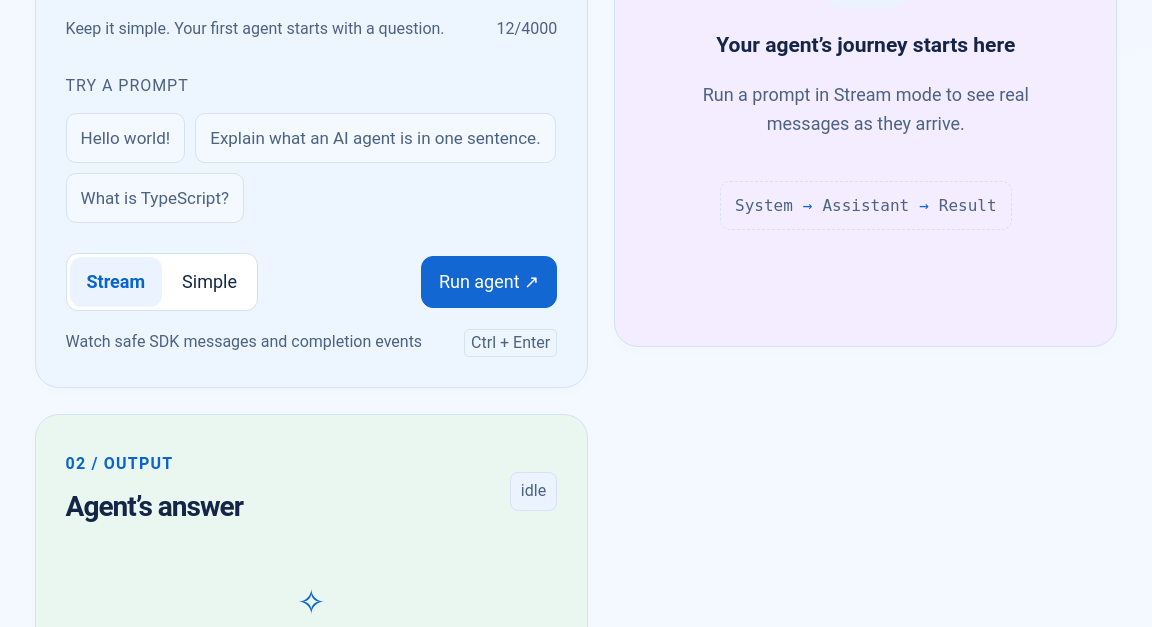
React agent playground › uses Simple mode and preserves the lab when navigating to all 16 UML explanations
Later steps or results of the test are not shown.
(page scrolled)
Step 1. Click the button "Simple" → (210, 282), box [165, 257, 254, 307]
(page scrolled)
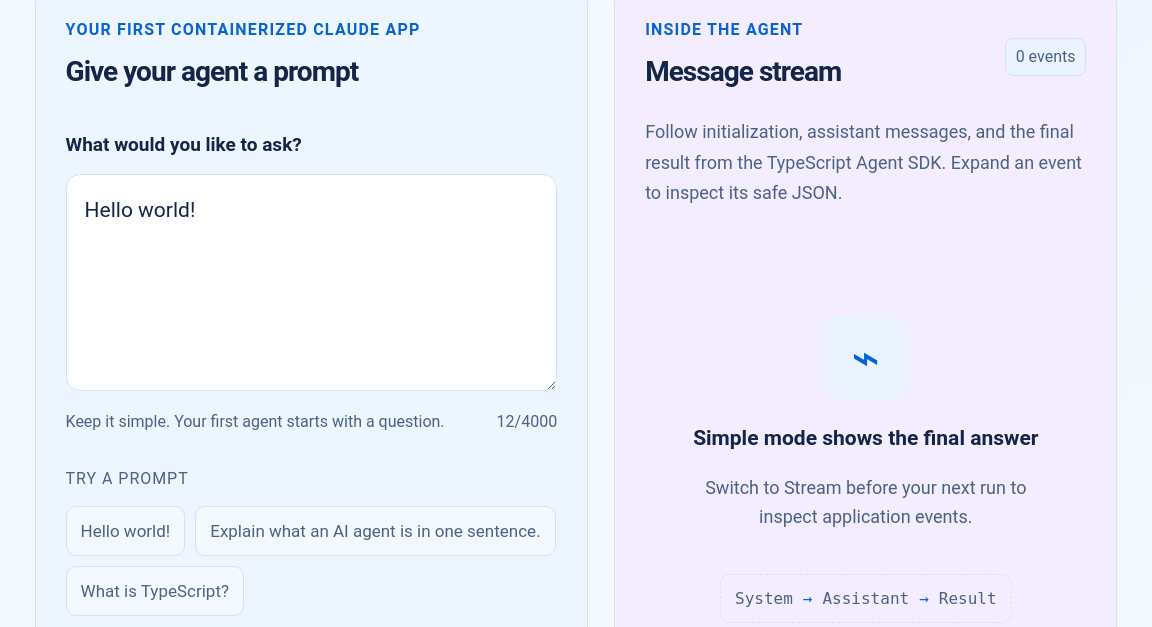
Step 2. Replace the text in the text box labelled "What would you like to ask?" with "What is Spring?" → (311, 283), box [66, 174, 557, 391]
(page scrolled)
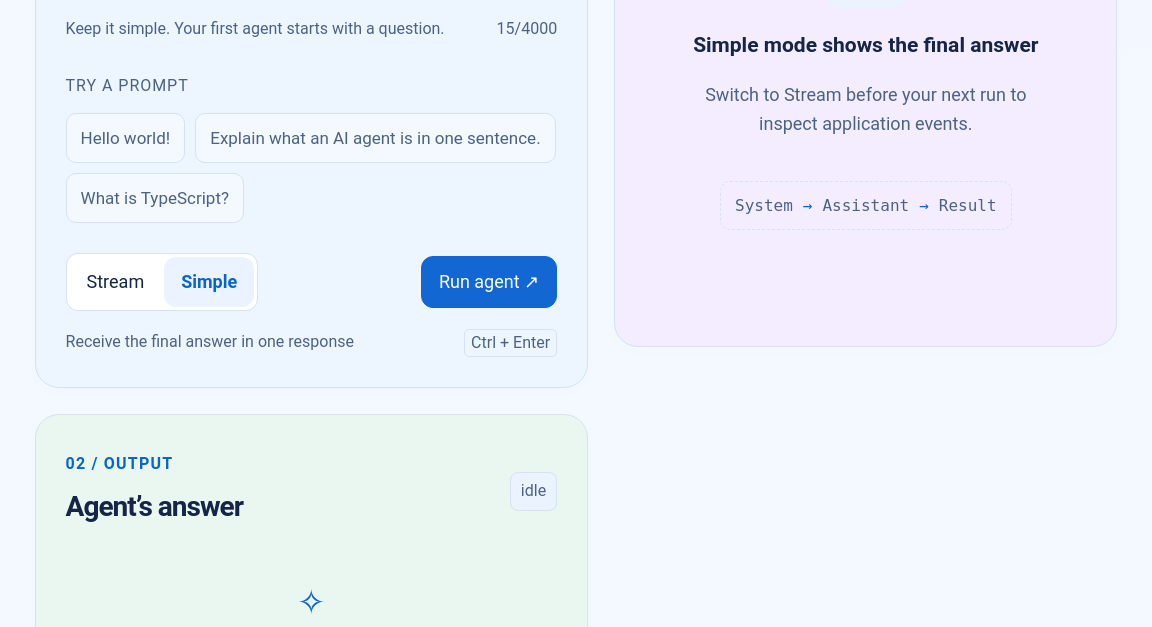
Step 3. Click the button "Run agent ↗" → (489, 282), box [421, 256, 557, 308]
(page scrolled)
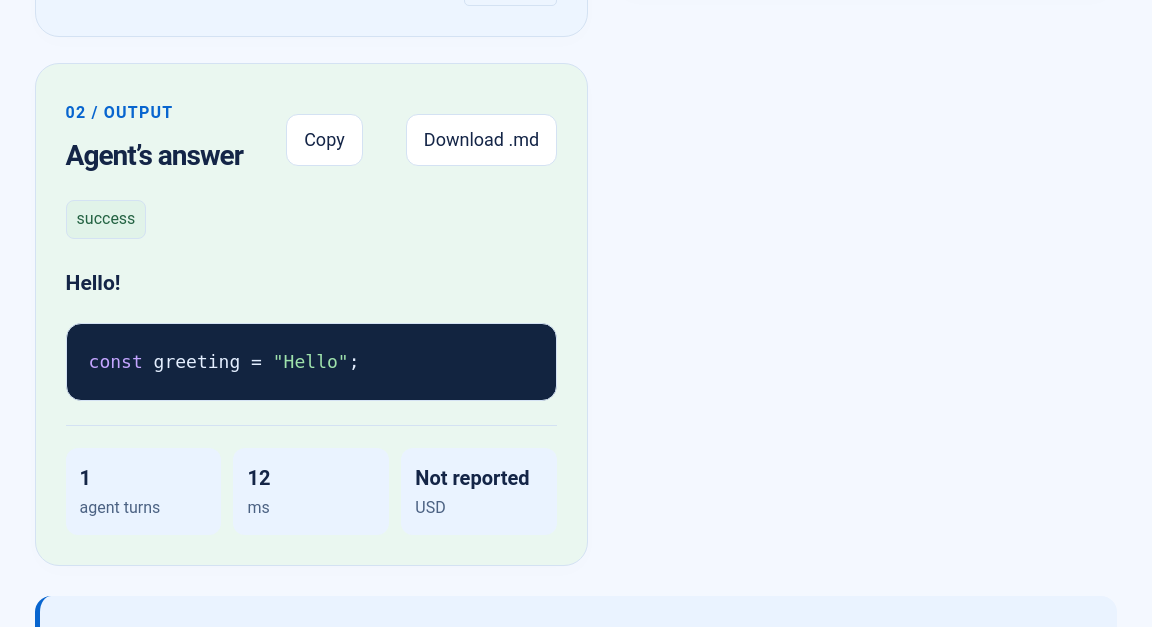
expect the text with class "state" reads "success": met, box [76, 209, 135, 228]
expect the element with class "hljs" is shown: met, box [88, 350, 359, 372]
expect the text "Hello!" is shown: met, box [66, 271, 120, 295]
